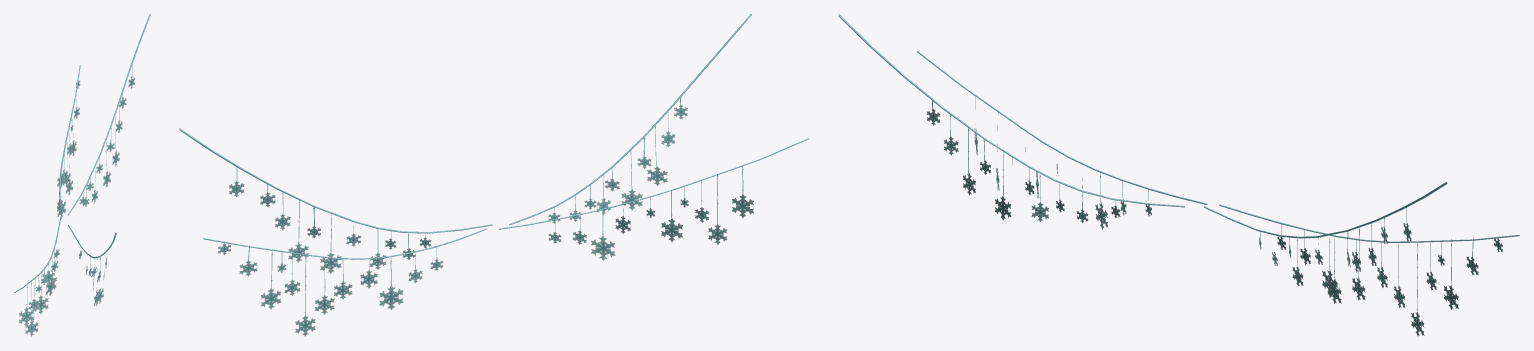
Rendered from pref_sm_beach_winter_snowlight_mirror_lv3.fbx.
The picture shows the model from 3 angles, left to right: view 1: azimuth 30°, elevation 25°; view 2: azimuth 150°, elevation 25°; view 3: azimuth 270°, elevation 25°; orthographic projection. The views are drawn at different scales.
Parts seen in each view (by area): view 1: pref_sm_beach_winter_snowlight_mirror_lv3; view 2: pref_sm_beach_winter_snowlight_mirror_lv3; view 3: pref_sm_beach_winter_snowlight_mirror_lv3.
Part boxes in pixels (<box>): pref_sm_beach_winter_snowlight_mirror_lv3: <box>14,14,150,336</box>; pref_sm_beach_winter_snowlight_mirror_lv3: <box>179,14,809,336</box>; pref_sm_beach_winter_snowlight_mirror_lv3: <box>838,14,1519,336</box>.
Bounding box in the file's own units: 15.59 × 7.07 × 19.98.
